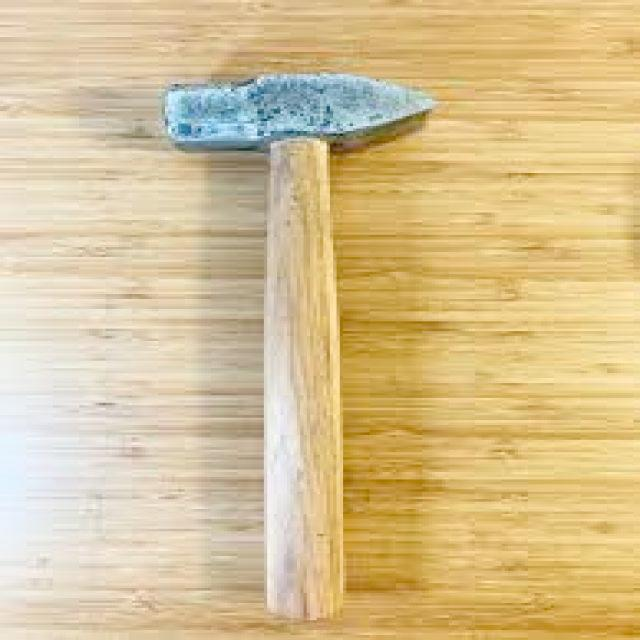hammer: (152, 72, 456, 632)
